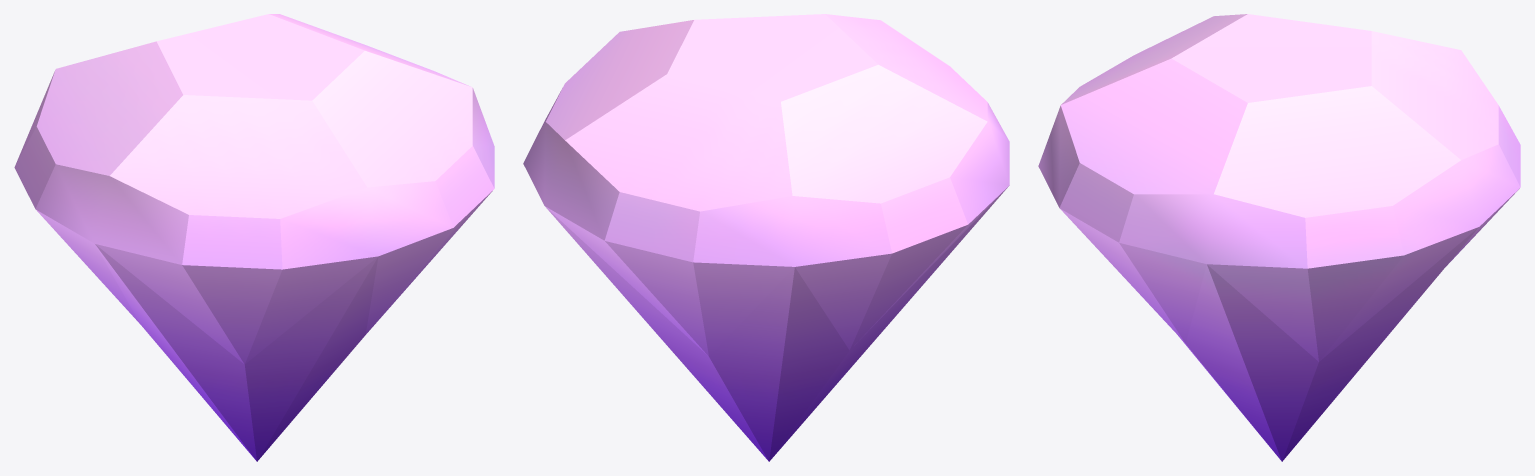
File: 5e348743-400e-41ac-b701-75d6acedbd68.glb
3 views of the same model, side by side, from view 1: azimuth 30°, elevation 25°; view 2: azimuth 150°, elevation 25°; view 3: azimuth 270°, elevation 25° (orthographic).
Visible parts, largest first — view 1: Gem.006; view 2: Gem.006; view 3: Gem.006.
Boxes of the visible parts, box(x1,y1,x2,y2) form: Gem.006: box(14, 14, 494, 461); Gem.006: box(523, 14, 1009, 461); Gem.006: box(1038, 14, 1520, 461).
Size of what is drawn, in the model's own units: 0.1876 by 0.1722 by 0.1866.
Materials: 1 (1 with a texture image).
